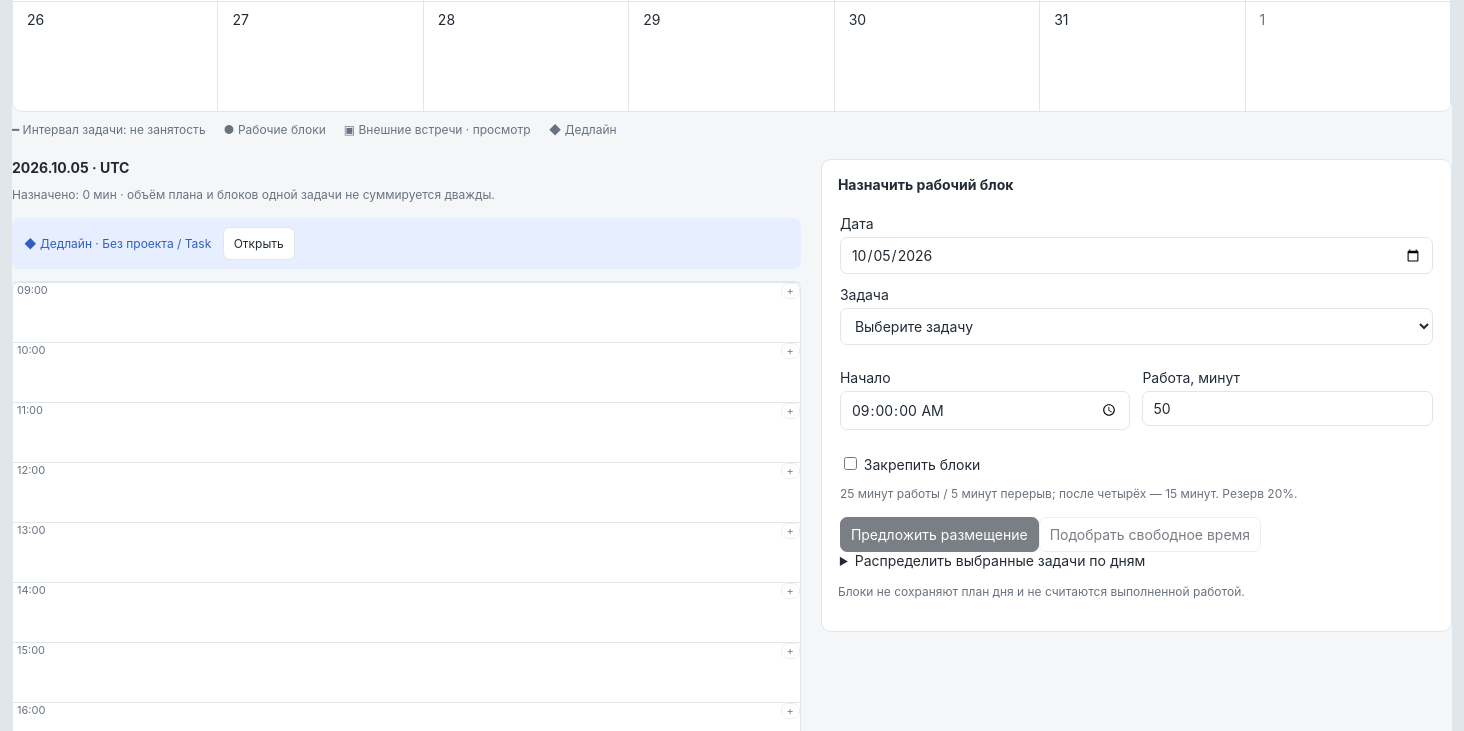
Test case: reports proposal and revision errors without false success
(page scrolled)
Select "Без проекта / Task" in the dropdown labelled "Задача": (1136, 326) [840,308,1433,345]
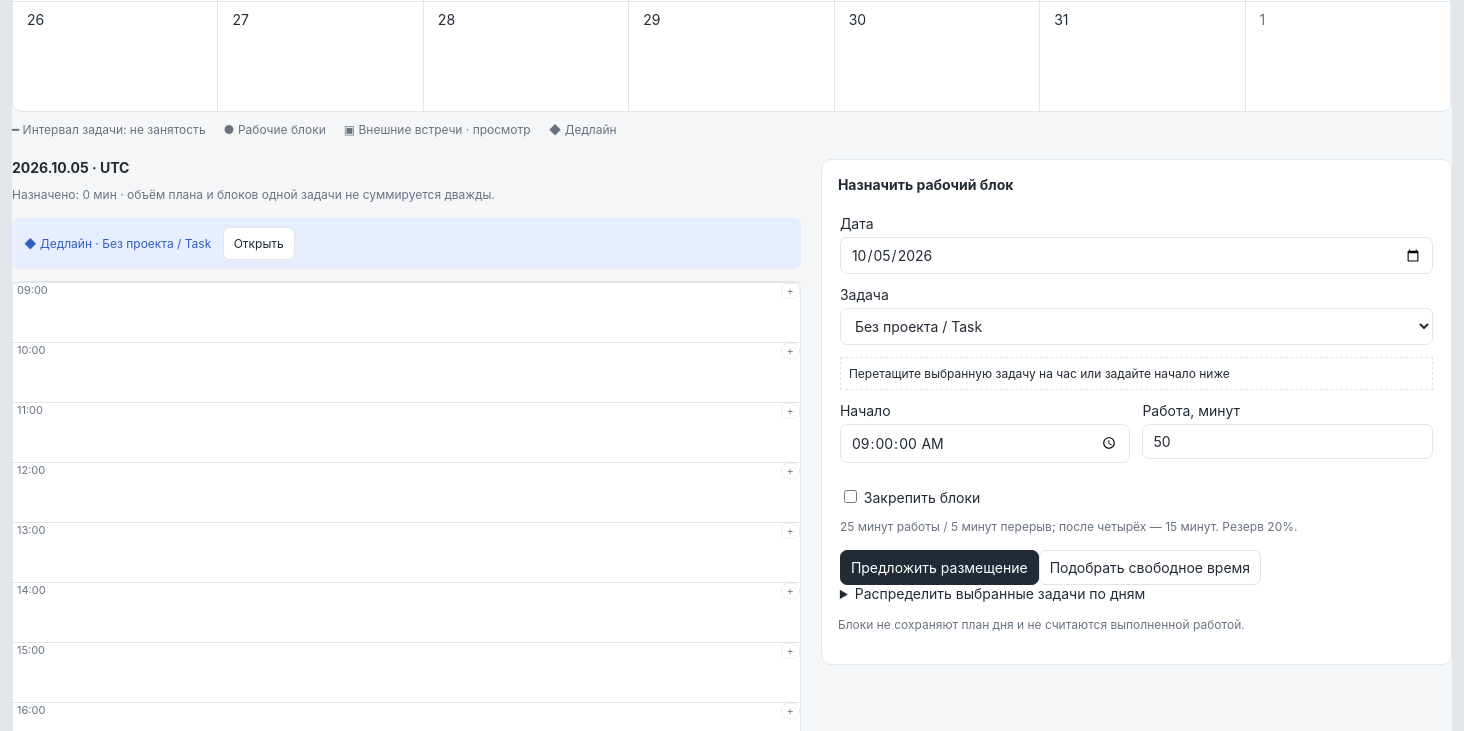
Click the button "Предложить размещение": (939, 567) [840,550,1039,585]
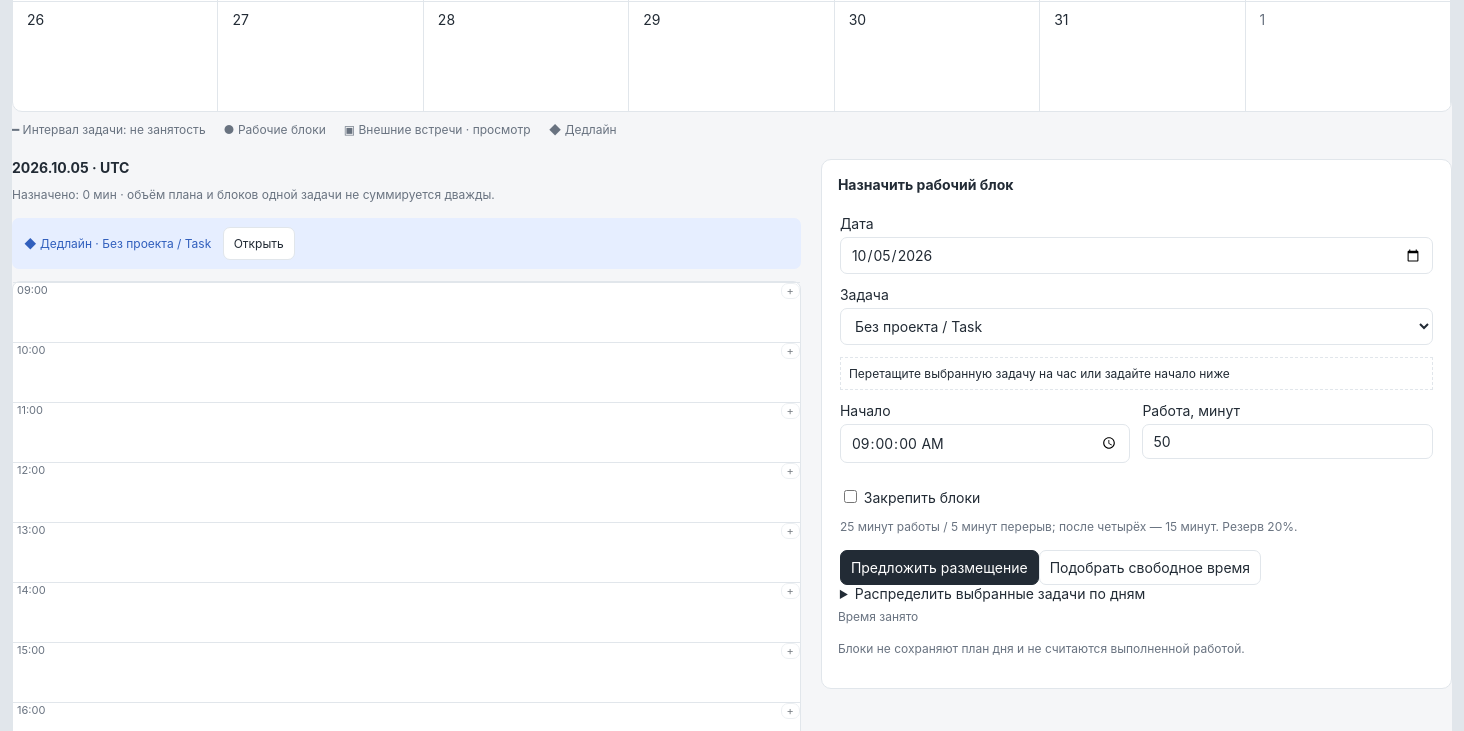
Check: the text "Время занято" is shown, box [838,609,918,624]
